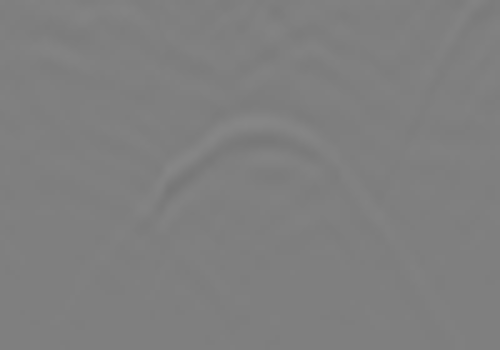hyperbola: (87, 113, 456, 317)
